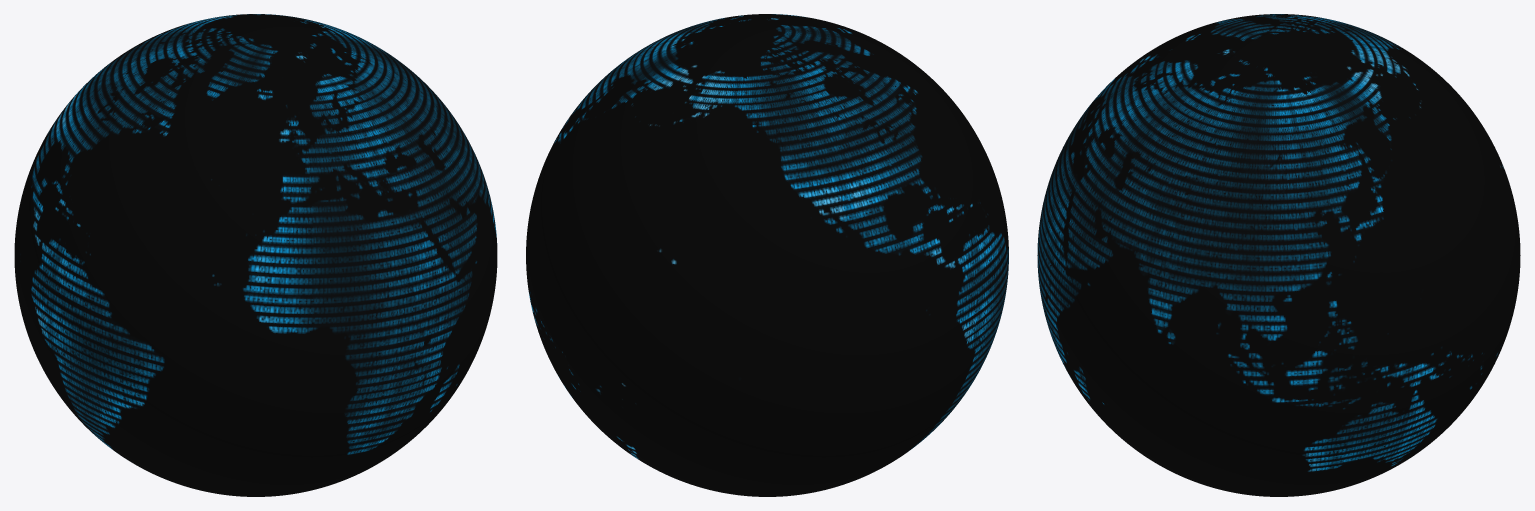
The model's file is Earth1_.2.glb.
The picture shows the model from 3 angles, left to right: view 1: azimuth 30°, elevation 25°; view 2: azimuth 150°, elevation 25°; view 3: azimuth 270°, elevation 25°; orthographic projection.
Parts seen in each view (by area): view 1: EARTH:Layer1_TERRE_0.001; view 2: EARTH:Layer1_TERRE_0.001; view 3: EARTH:Layer1_TERRE_0.001.
Boxes of the visible parts, box(x1,y1,x2,y2) form: EARTH:Layer1_TERRE_0.001: box(14, 14, 497, 496); EARTH:Layer1_TERRE_0.001: box(526, 14, 1008, 496); EARTH:Layer1_TERRE_0.001: box(1037, 14, 1520, 496).
Size of the model in its own units: 201 by 201 by 201.
2 materials, 1 textured.
